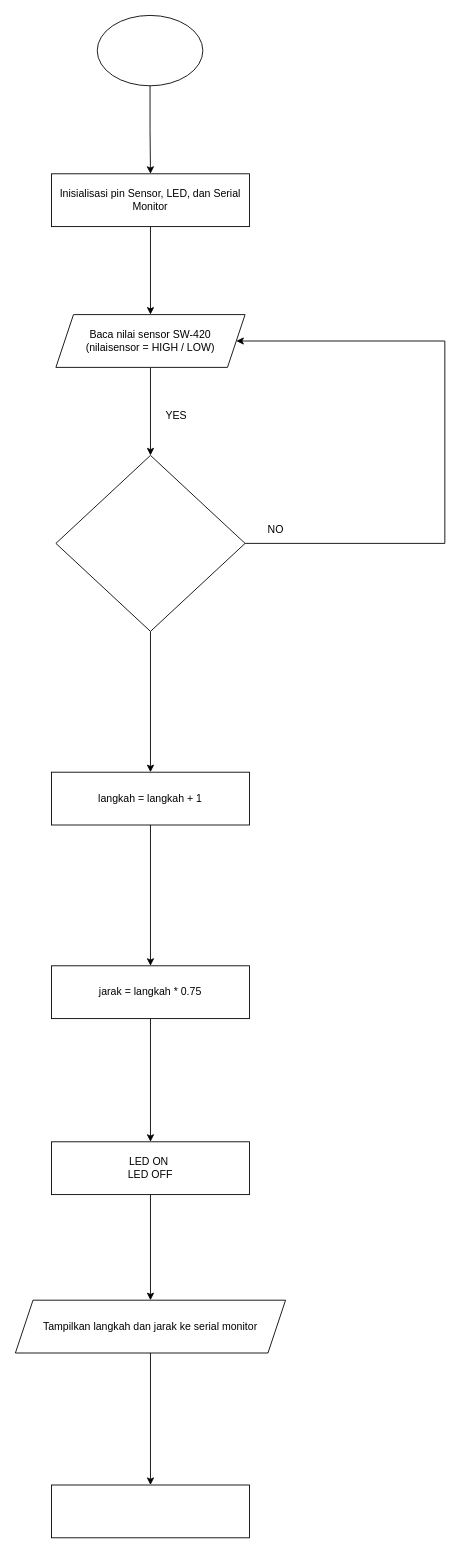
Image size: 467x1553. Some labels were removed from this diagram. Here are the shapes that lost their labels. From the top down, the centre of each, then its label:
(x=149, y=50): START
(x=150, y=543): Sensor HIGH AND Status sebelumnya LOW?
(x=150, y=1511): Simpan status sensor sebagai laststate
